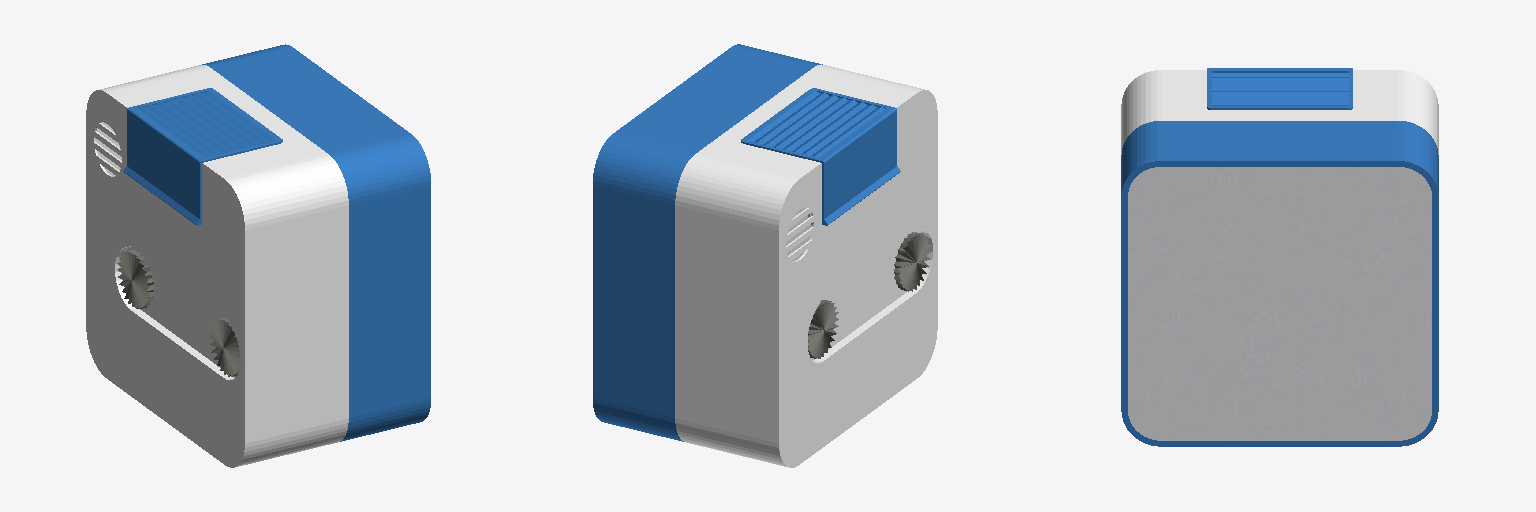
3 renders of one model, left to right at view 1: azimuth 30°, elevation 25°; view 2: azimuth 150°, elevation 25°; view 3: azimuth 270°, elevation 25°, orthographic.
Visible parts, largest first — view 1: Mesh1_Model.004; view 2: Mesh1_Model.004; view 3: Mesh1_Model.004.
Boxes of the visible parts, <box> form: Mesh1_Model.004: <box>86,44,430,467</box>; Mesh1_Model.004: <box>593,44,937,467</box>; Mesh1_Model.004: <box>1121,68,1438,446</box>.
Size of the model in its own units: 0.7 by 1 by 1.
11 materials, 2 textured.